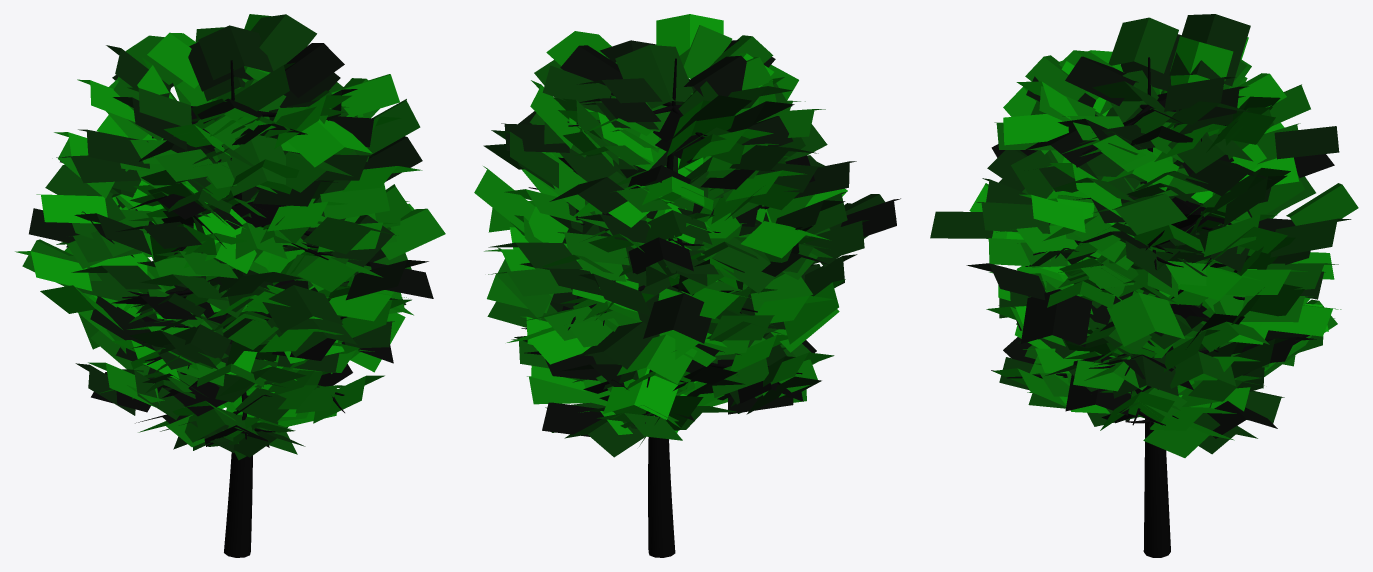
The picture shows the model from 3 angles, left to right: view 1: azimuth 30°, elevation 25°; view 2: azimuth 150°, elevation 25°; view 3: azimuth 270°, elevation 25°; orthographic projection.
Visible parts, largest first — view 1: IL3DN_Tree_Birch_01_OneMesh_LOD0; view 2: IL3DN_Tree_Birch_01_OneMesh_LOD0; view 3: IL3DN_Tree_Birch_01_OneMesh_LOD0.
Boxes of the visible parts, box(x1,y1,x2,y2) form: IL3DN_Tree_Birch_01_OneMesh_LOD0: box(15, 14, 445, 557); IL3DN_Tree_Birch_01_OneMesh_LOD0: box(474, 14, 900, 557); IL3DN_Tree_Birch_01_OneMesh_LOD0: box(930, 14, 1358, 557).
Size of what is drawn, in the model's own units: 725 by 956 by 748.
